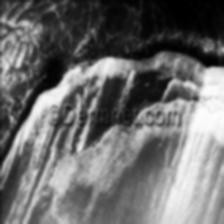Toxin: (1, 39, 224, 103), (0, 130, 149, 206)
